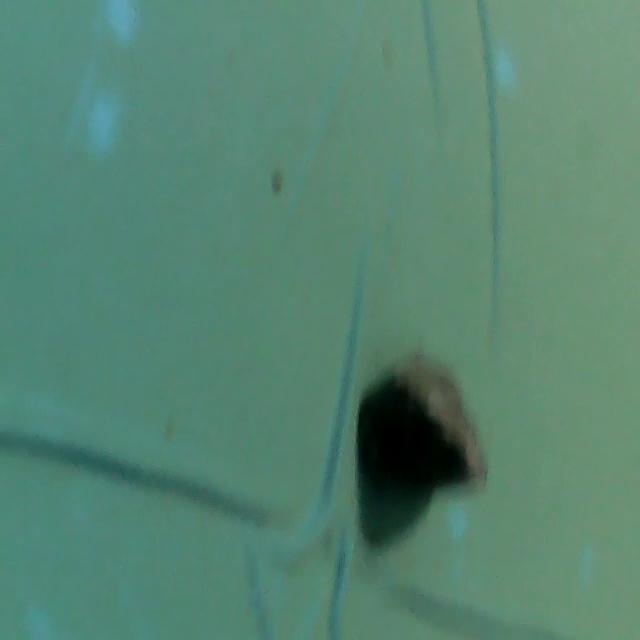rock: (358, 342, 501, 509)
